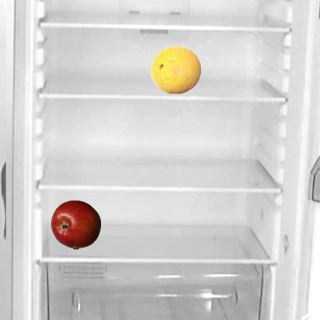Apple Braeburn: (50, 199, 100, 249)
Cantaloupe 1: (150, 44, 200, 94)
